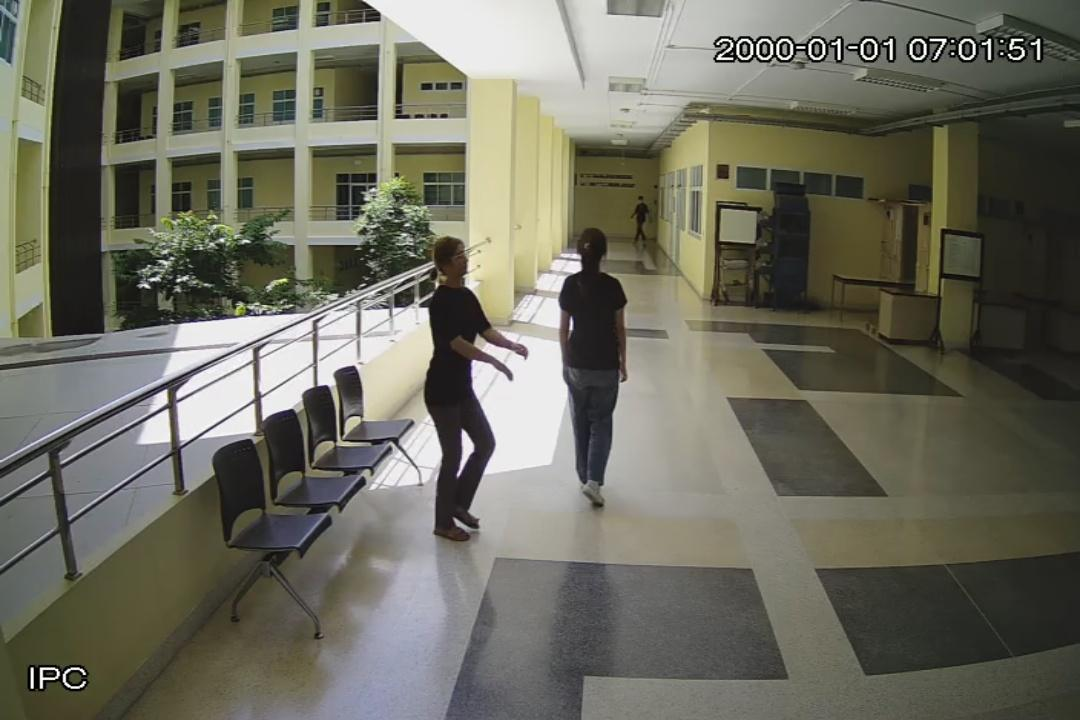normal: (420, 233, 531, 546), (557, 226, 635, 512)
